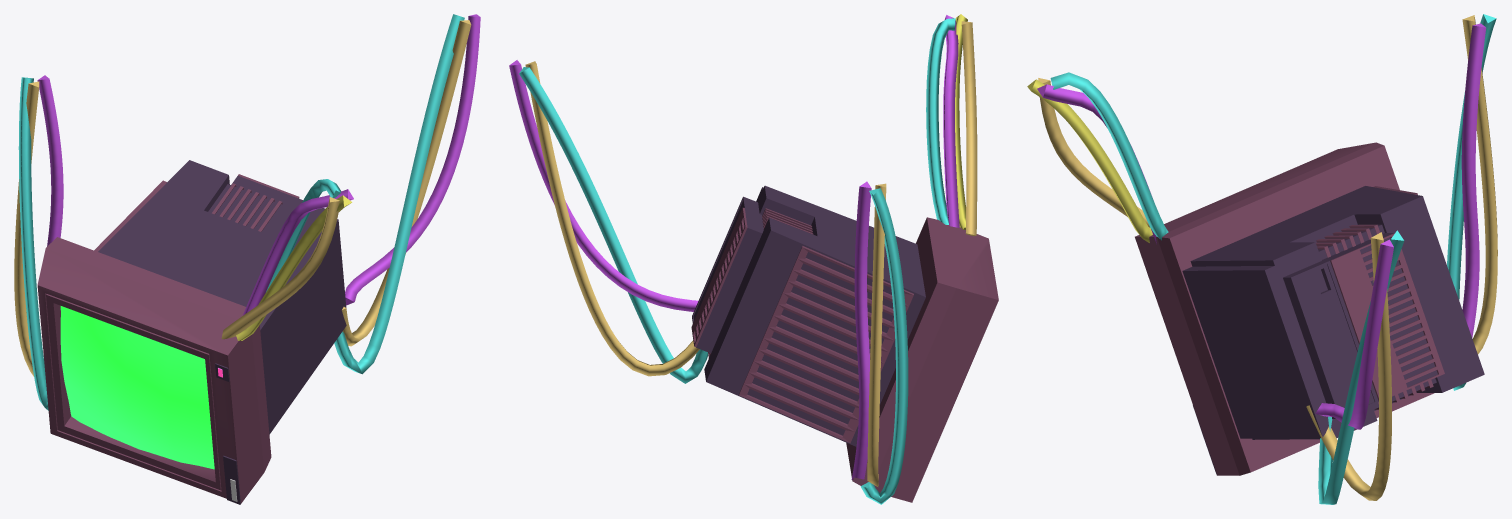
The model's file is Light3.fbx.
3 renders of one model, left to right at view 1: azimuth 30°, elevation 25°; view 2: azimuth 150°, elevation 25°; view 3: azimuth 270°, elevation 25°, orthographic. The views are drawn at different scales.
Parts seen in each view (by area): view 1: GeoCables.003; view 2: GeoCables.003; view 3: GeoCables.003.
Part boxes in pixels (x1,y1,x2,y2): GeoCables.003: (14,14,480,504); GeoCables.003: (509,14,998,504); GeoCables.003: (1027,14,1497,504).
Size of the model in its own units: 111 by 84.51 by 86.81.
